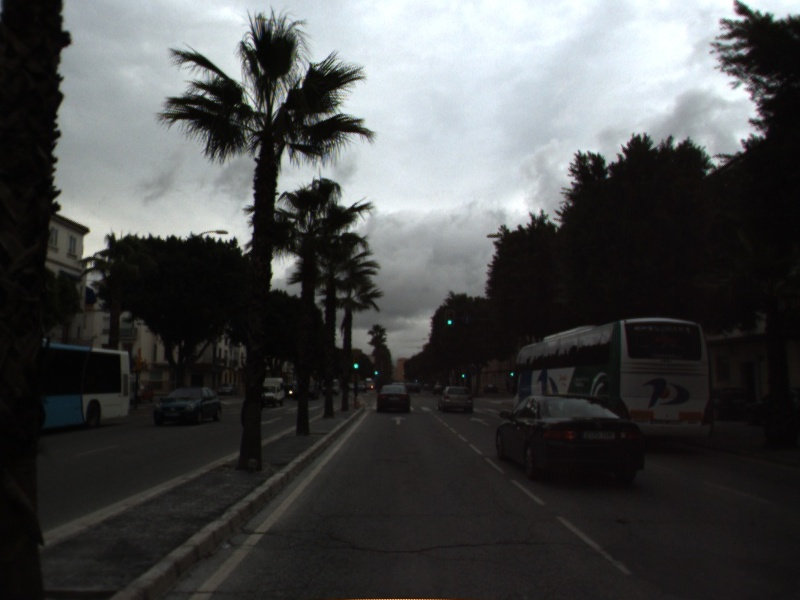STRAIGHT: (468, 414, 492, 428), (388, 414, 409, 427)
